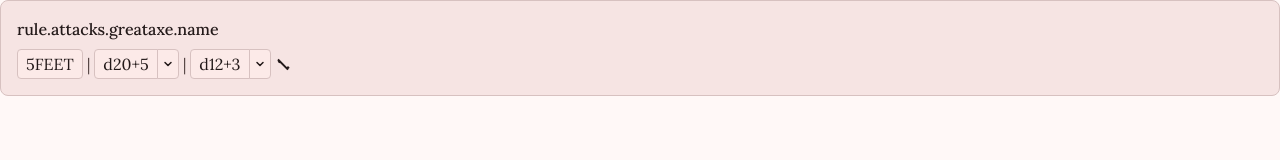
Test: PanelRenderer - dice-line control › rolls d20 at disadvantage when range has disadvantage flag
Cycle to the disadvantaged range
Step 1. Click the button "5FEET" → (50, 64), box [17,49,83,79]
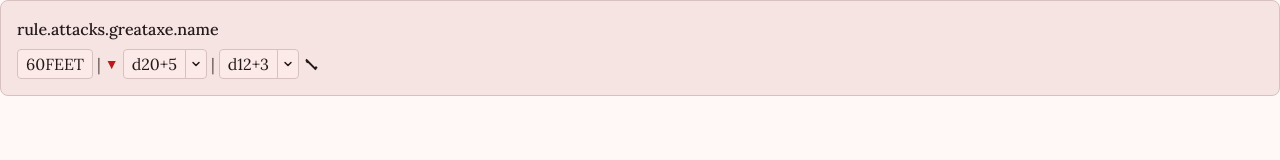
Step 2. Click the button "d20+5" → (154, 64), box [123,49,186,79]
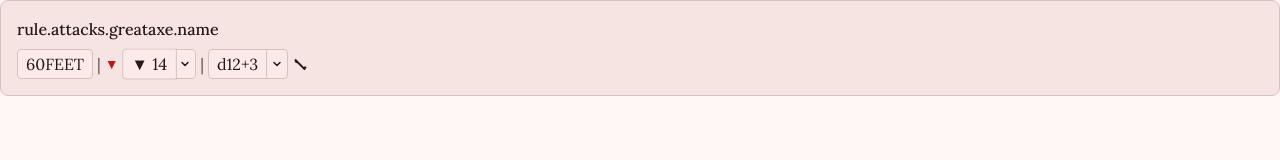
Now the text "14" is shown, box [121,48,177,80]
